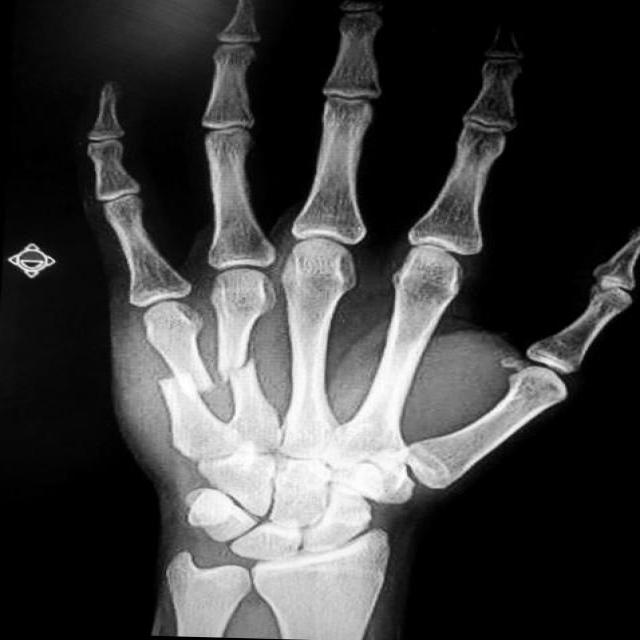Transverse: (134, 352, 214, 412)
Transverse Displaced: (210, 330, 286, 396)
